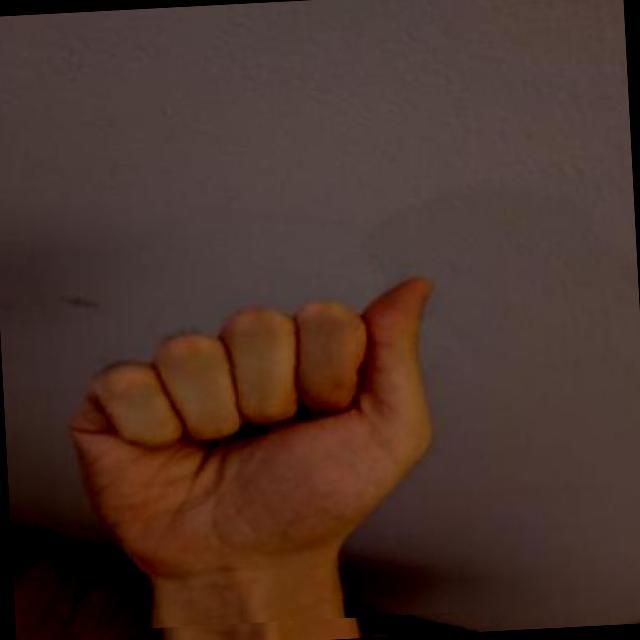A: (44, 238, 472, 633)
